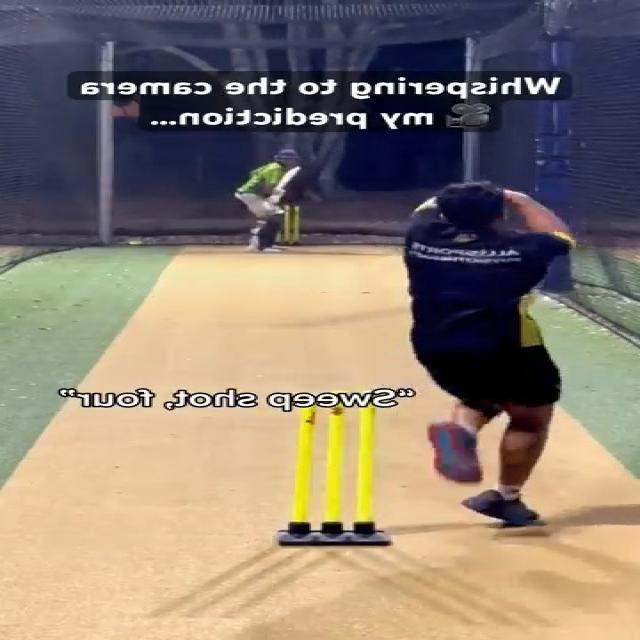stump: (276, 410, 394, 547)
